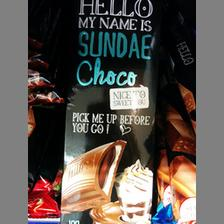Schokolade: (60, 0, 156, 224)
